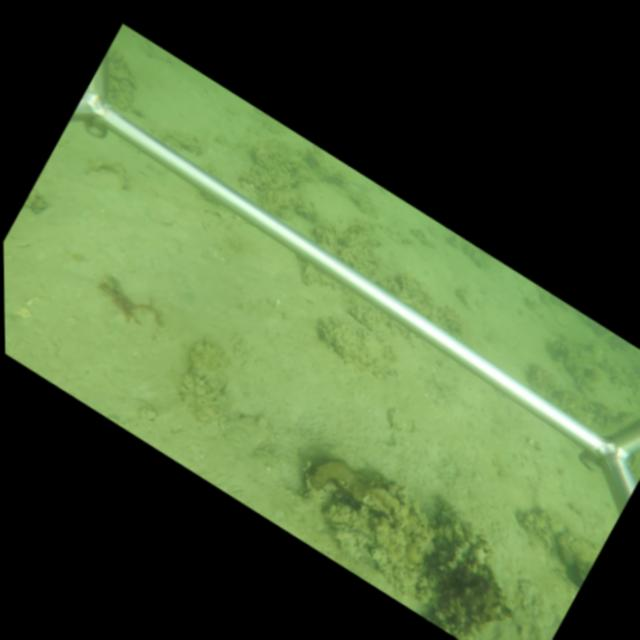Oyster-Closed: (483, 553, 521, 604), (326, 520, 375, 559), (386, 406, 415, 433)
